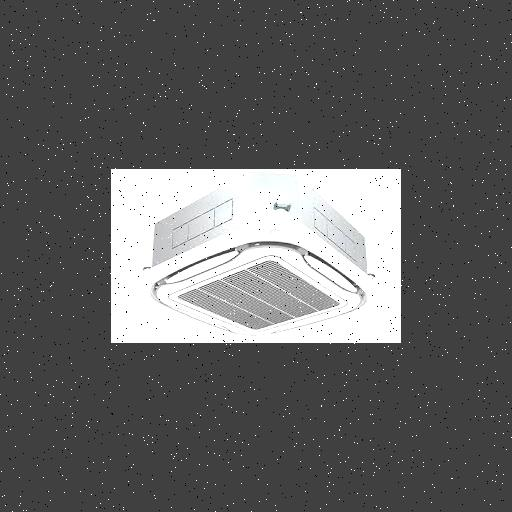4-way-ac: (114, 210, 393, 335)
